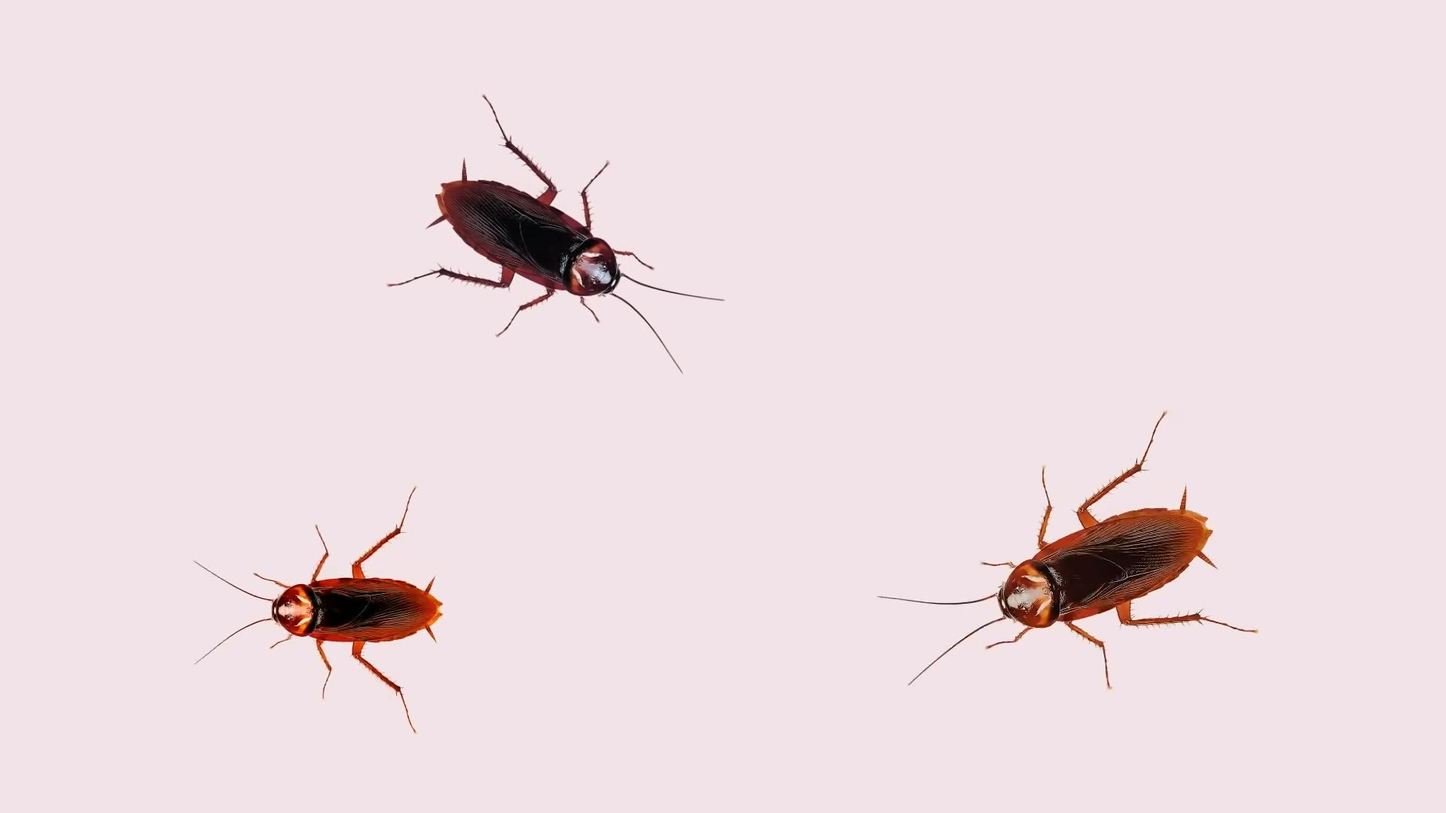cockroach: (370, 71, 720, 378), (869, 437, 1262, 674), (167, 525, 477, 723)
